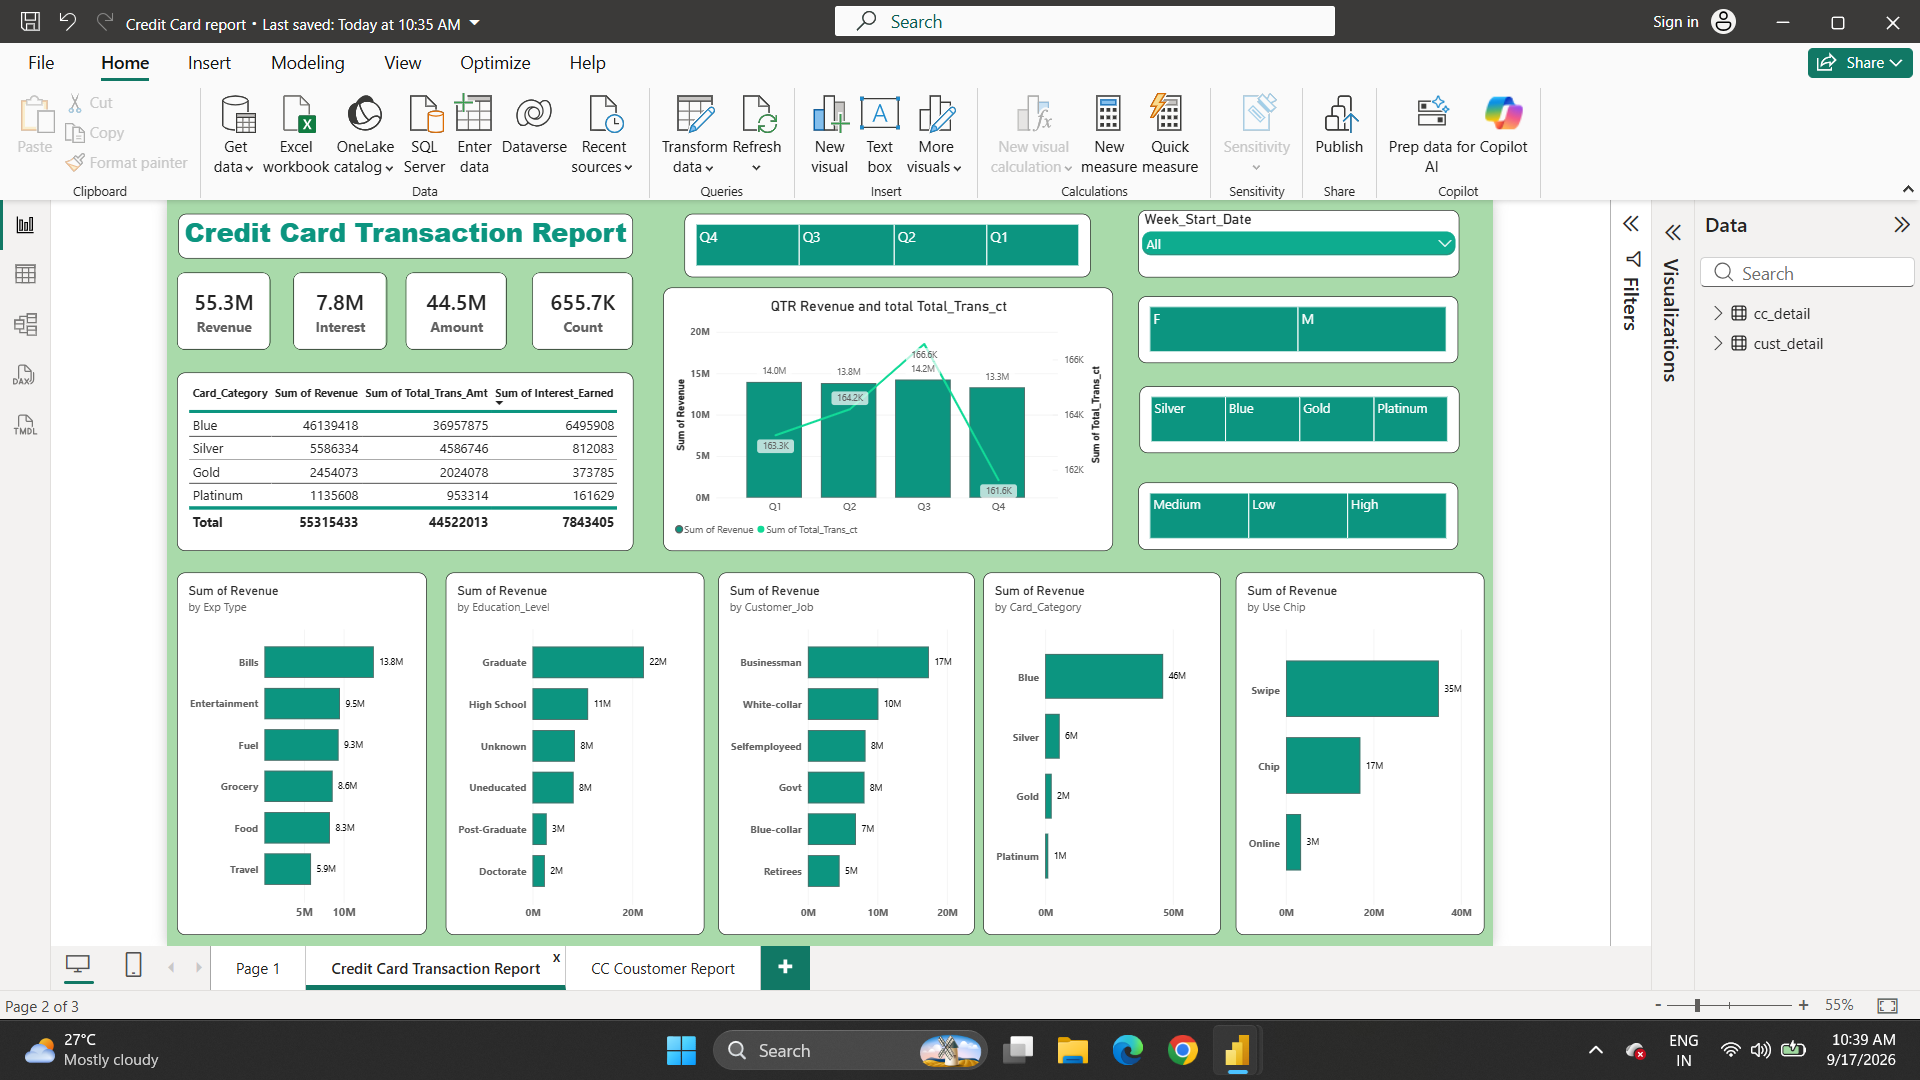

This screenshot's page, from the dashboard's own definition file:
{"tool":"powerbi","page":{"name":"Credit Card Transaction Report","canvas":[1920,1080],"ordinal":1},"visuals":[{"type":"textbox","box":[16.3,19.9,658.7,65.1],"z":0},{"type":"lineStackedColumnComboChart","title":"QTR Revenue and total Total_Trans_ct","fields":{"Category":["cc_detail.Qtr"],"Y":["Sum(cc_detail.Revenue)"],"Y2":["Sum(cc_detail.Total_Trans_ct)"]},"box":[718.4,126.7,651.5,381.8],"z":1000},{"type":"barChart","fields":{"Y":["Sum(cc_detail.Revenue)"],"Category":["cc_detail.Exp Type"]},"box":[14.5,539.3,361.9,524.8],"z":2000},{"type":"barChart","fields":{"Y":["Sum(cc_detail.Revenue)"],"Category":["cust_detail.Customer_Job"]},"box":[798.1,539.3,371,524.8],"z":3000},{"type":"barChart","fields":{"Y":["Sum(cc_detail.Revenue)"],"Category":["cust_detail.Education_Level"]},"box":[403.6,539.3,374.6,524.8],"z":4000},{"type":"barChart","fields":{"Y":["Sum(cc_detail.Revenue)"],"Category":["cc_detail.Card_Category"]},"box":[1181.7,539.3,343.8,524.8],"z":5000},{"type":"tableEx","fields":{"Values":["cc_detail.Card_Category","Sum(cc_detail.Revenue)","cc_detail.Total_Trans_Amt","cc_detail.Interest_Earned"]},"box":[14.5,249.7,660.5,258.8],"z":6000},{"type":"cardVisual","fields":{"Data":["Sum(cc_detail.Interest_Earned)"]},"box":[182.8,105,135.7,112],"z":7000},{"type":"cardVisual","title":"Revenue","fields":{"Data":["Sum(cc_detail.Revenue)"]},"box":[14.5,105,135,112],"z":8000},{"type":"cardVisual","title":"Revenue","fields":{"Data":["Sum(cc_detail.Total_Trans_Amt)"]},"box":[345.6,105,146.6,112],"z":9000},{"type":"cardVisual","title":"Revenue","fields":{"Data":["Sum(cc_detail.Total_Trans_ct)"]},"box":[528.4,105,146.6,112],"z":10000},{"type":"barChart","fields":{"Y":["Sum(cc_detail.Revenue)"],"Category":["cc_detail.Use Chip"]},"box":[1547.3,539.3,360.1,524.8],"z":11000},{"type":"slicer","fields":{"Values":["cc_detail.Week_Start_Date"]},"box":[1406.1,14.5,465.1,97.7],"z":12000},{"type":"treemap","fields":{"Group":["cc_detail.Qtr"],"Values":["Avg(cust_detail.Client_Num)"]},"box":[749.2,19.9,588.1,92.3],"z":13000},{"type":"treemap","fields":{"Group":["cust_detail.Gender"],"Values":["Avg(cust_detail.Client_Num)"]},"box":[1406.1,139.3,463,97],"z":14000},{"type":"treemap","fields":{"Group":["cc_detail.Card_Category"],"Values":["Avg(cust_detail.Client_Num)"]},"box":[1407.9,269.6,463,97],"z":15000},{"type":"treemap","fields":{"Values":["Avg(cust_detail.Client_Num)"],"Group":["cust_detail.IncomeGroup"]},"box":[1406.1,409,463.3,97.7],"z":16000}]}

Visuals, with their boxes on the page's 1920x1080 design canvas (x1, y1, x2, y2). These are canvas units, not pixel positions in the 1920x1080 screenshot, which may show the page scaled, cropped or inside an application window:
textbox: [16,20,675,85]
"QTR Revenue and total Total_Trans_ct" lineStackedColumnComboChart: [718,127,1370,508]
barChart - Sum(cc_detail.Revenue) x cc_detail.Exp Type: [14,539,376,1064]
barChart - Sum(cc_detail.Revenue) x cust_detail.Customer_Job: [798,539,1169,1064]
barChart - Sum(cc_detail.Revenue) x cust_detail.Education_Level: [404,539,778,1064]
barChart - Sum(cc_detail.Revenue) x cc_detail.Card_Category: [1182,539,1526,1064]
tableEx - cc_detail.Card_Category x Sum(cc_detail.Revenue): [14,250,675,508]
cardVisual - Sum(cc_detail.Interest_Earned): [183,105,318,217]
"Revenue" cardVisual: [14,105,150,217]
"Revenue" cardVisual: [346,105,492,217]
"Revenue" cardVisual: [528,105,675,217]
barChart - Sum(cc_detail.Revenue) x cc_detail.Use Chip: [1547,539,1907,1064]
slicer - cc_detail.Week_Start_Date: [1406,14,1871,112]
treemap - cc_detail.Qtr x Avg(cust_detail.Client_Num): [749,20,1337,112]
treemap - cust_detail.Gender x Avg(cust_detail.Client_Num): [1406,139,1869,236]
treemap - cc_detail.Card_Category x Avg(cust_detail.Client_Num): [1408,270,1871,367]
treemap - Avg(cust_detail.Client_Num) x cust_detail.IncomeGroup: [1406,409,1869,507]
